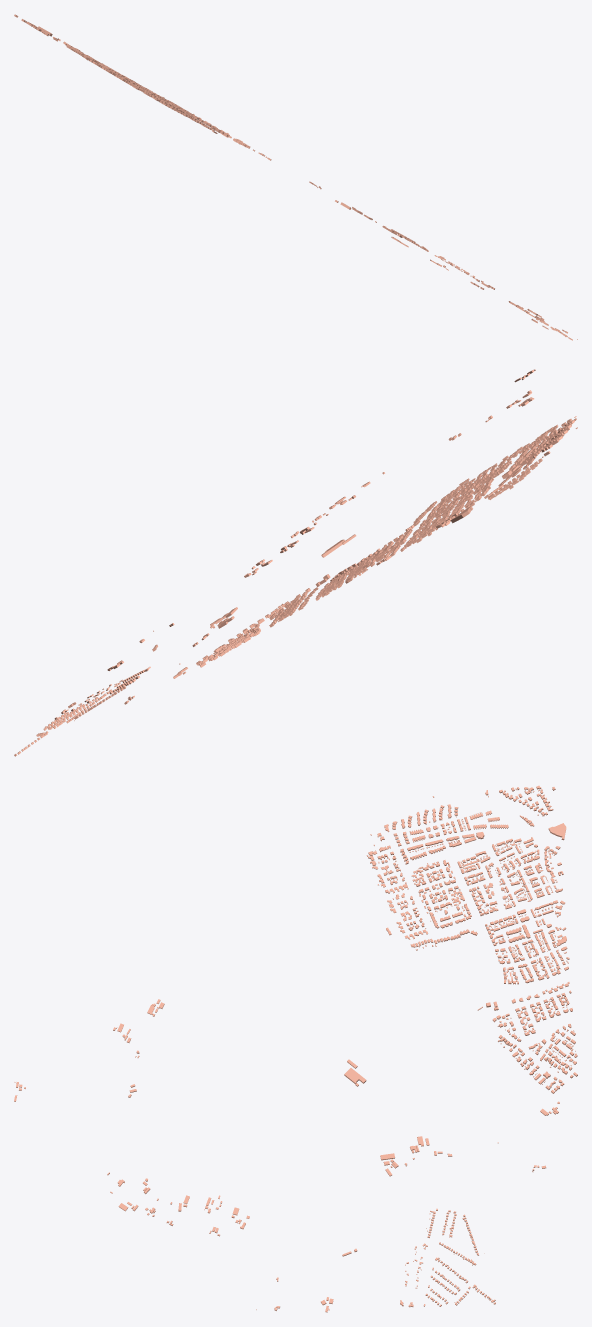
3 renders of one model, top to bottom at view 1: azimuth 30°, elevation 25°; view 2: azimuth 150°, elevation 25°; view 3: azimuth 270°, elevation 25°, orthographic. The views are drawn at different scales.
Size of the model in its own units: 2002 by 1481 by 2335.
